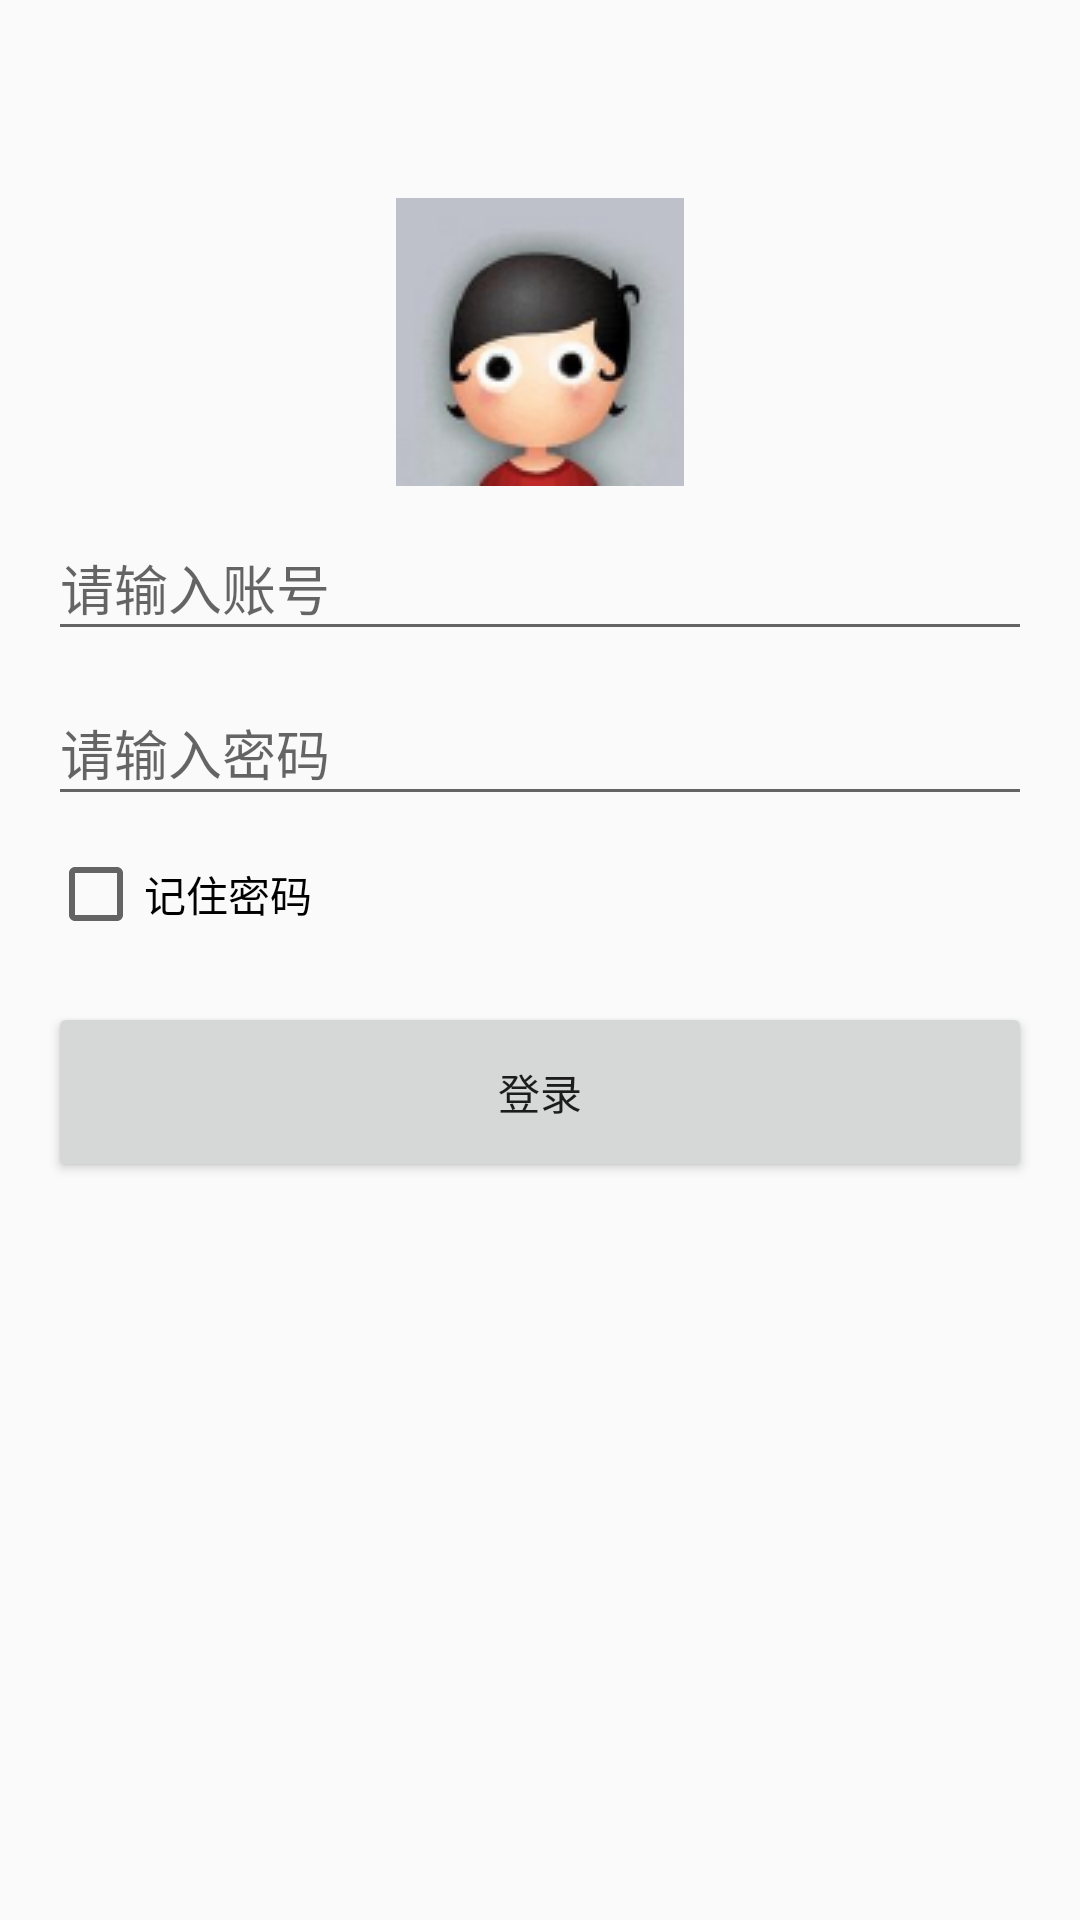

Locate icon controls on the screen. Image size 1080px x 1920px, boxes as (x1, y1, x2, y2).
head user: (396, 198, 684, 486)
